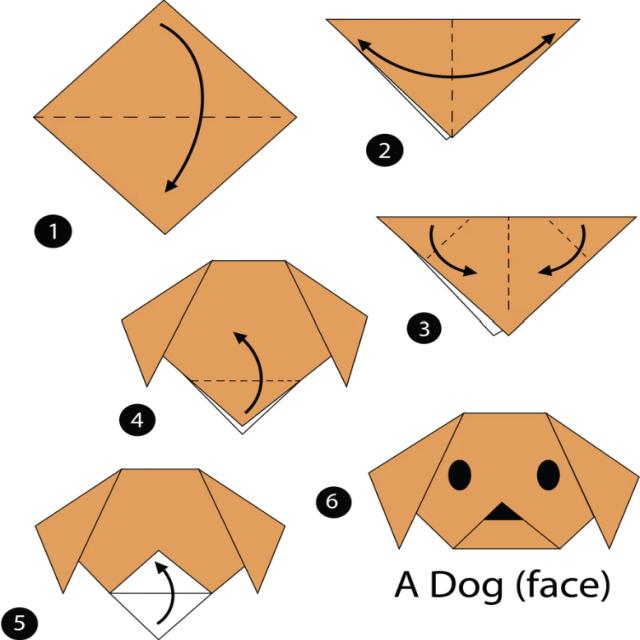arrow: (359, 34, 555, 79), (160, 24, 204, 192), (234, 332, 263, 413), (430, 225, 476, 276), (539, 225, 585, 276), (156, 562, 175, 624)
fold-line: (24, 100, 305, 131), (431, 11, 467, 145), (534, 207, 615, 266), (487, 208, 528, 323), (413, 208, 486, 270), (180, 367, 309, 396)
